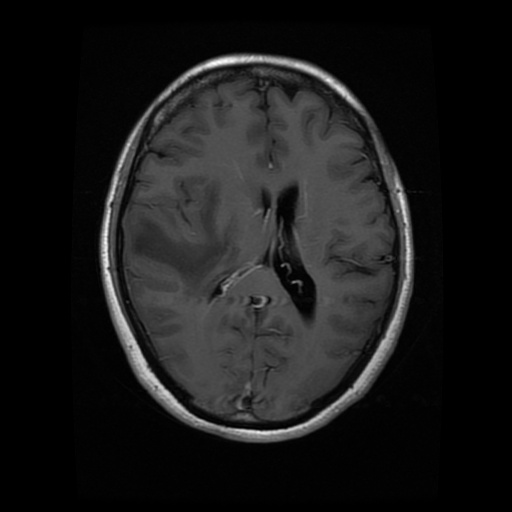glioma: (133, 183, 266, 298)
